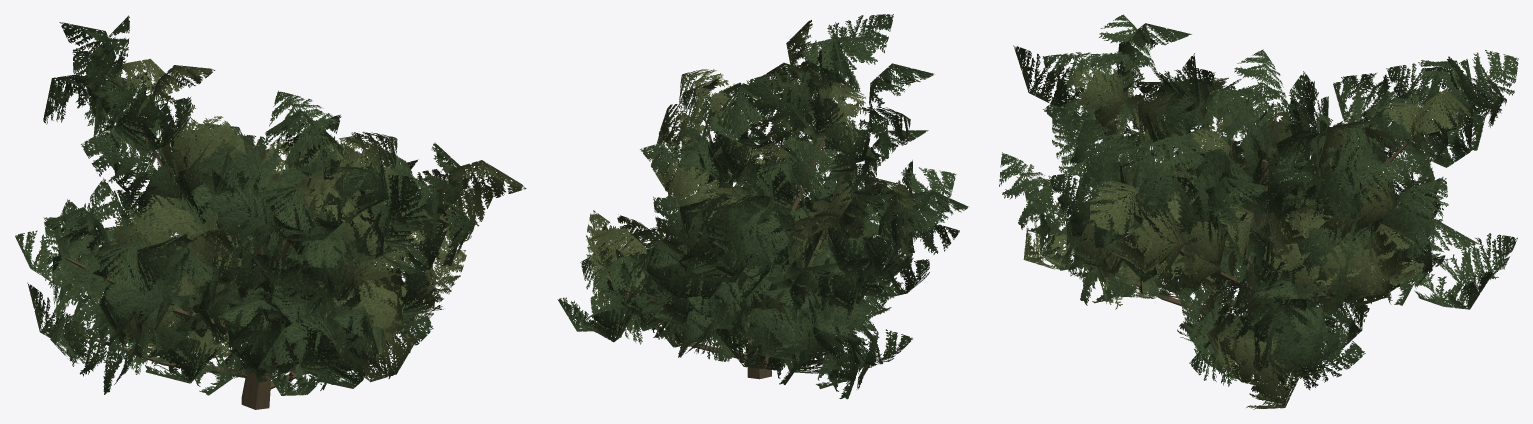
File: SM_CN_Juniper_A_LOD1.fbx
The picture shows the model from 3 angles, left to right: view 1: azimuth 30°, elevation 25°; view 2: azimuth 150°, elevation 25°; view 3: azimuth 270°, elevation 25°; orthographic projection. The views are drawn at different scales.
Parts seen in each view (by area): view 1: SM_CN_Juniper_A_LOD1; view 2: SM_CN_Juniper_A_LOD1; view 3: SM_CN_Juniper_A_LOD1.
Boxes of the visible parts, left/top/right/bottom form: SM_CN_Juniper_A_LOD1: left=15, top=15, right=526, bottom=409; SM_CN_Juniper_A_LOD1: left=557, top=14, right=968, bottom=399; SM_CN_Juniper_A_LOD1: left=999, top=14, right=1518, bottom=409.
Bounding box in the file's own units: 2 × 2.35 × 1.65.
